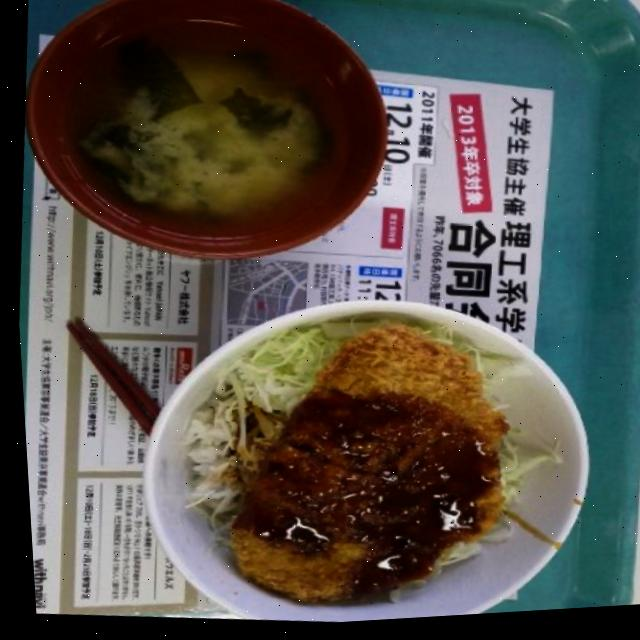汤锅炖物: (5, 0, 413, 289)
